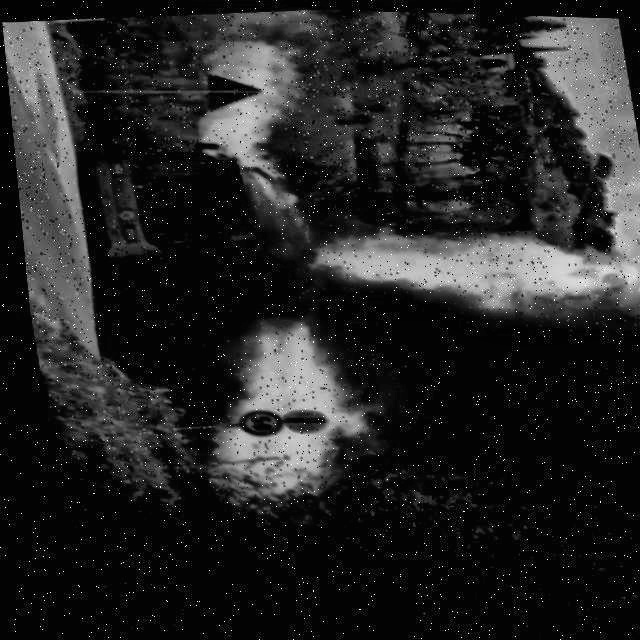Fire: (307, 219, 638, 318), (189, 322, 356, 516), (181, 15, 305, 181)
Smoke: (359, 290, 640, 494), (91, 247, 204, 312)
